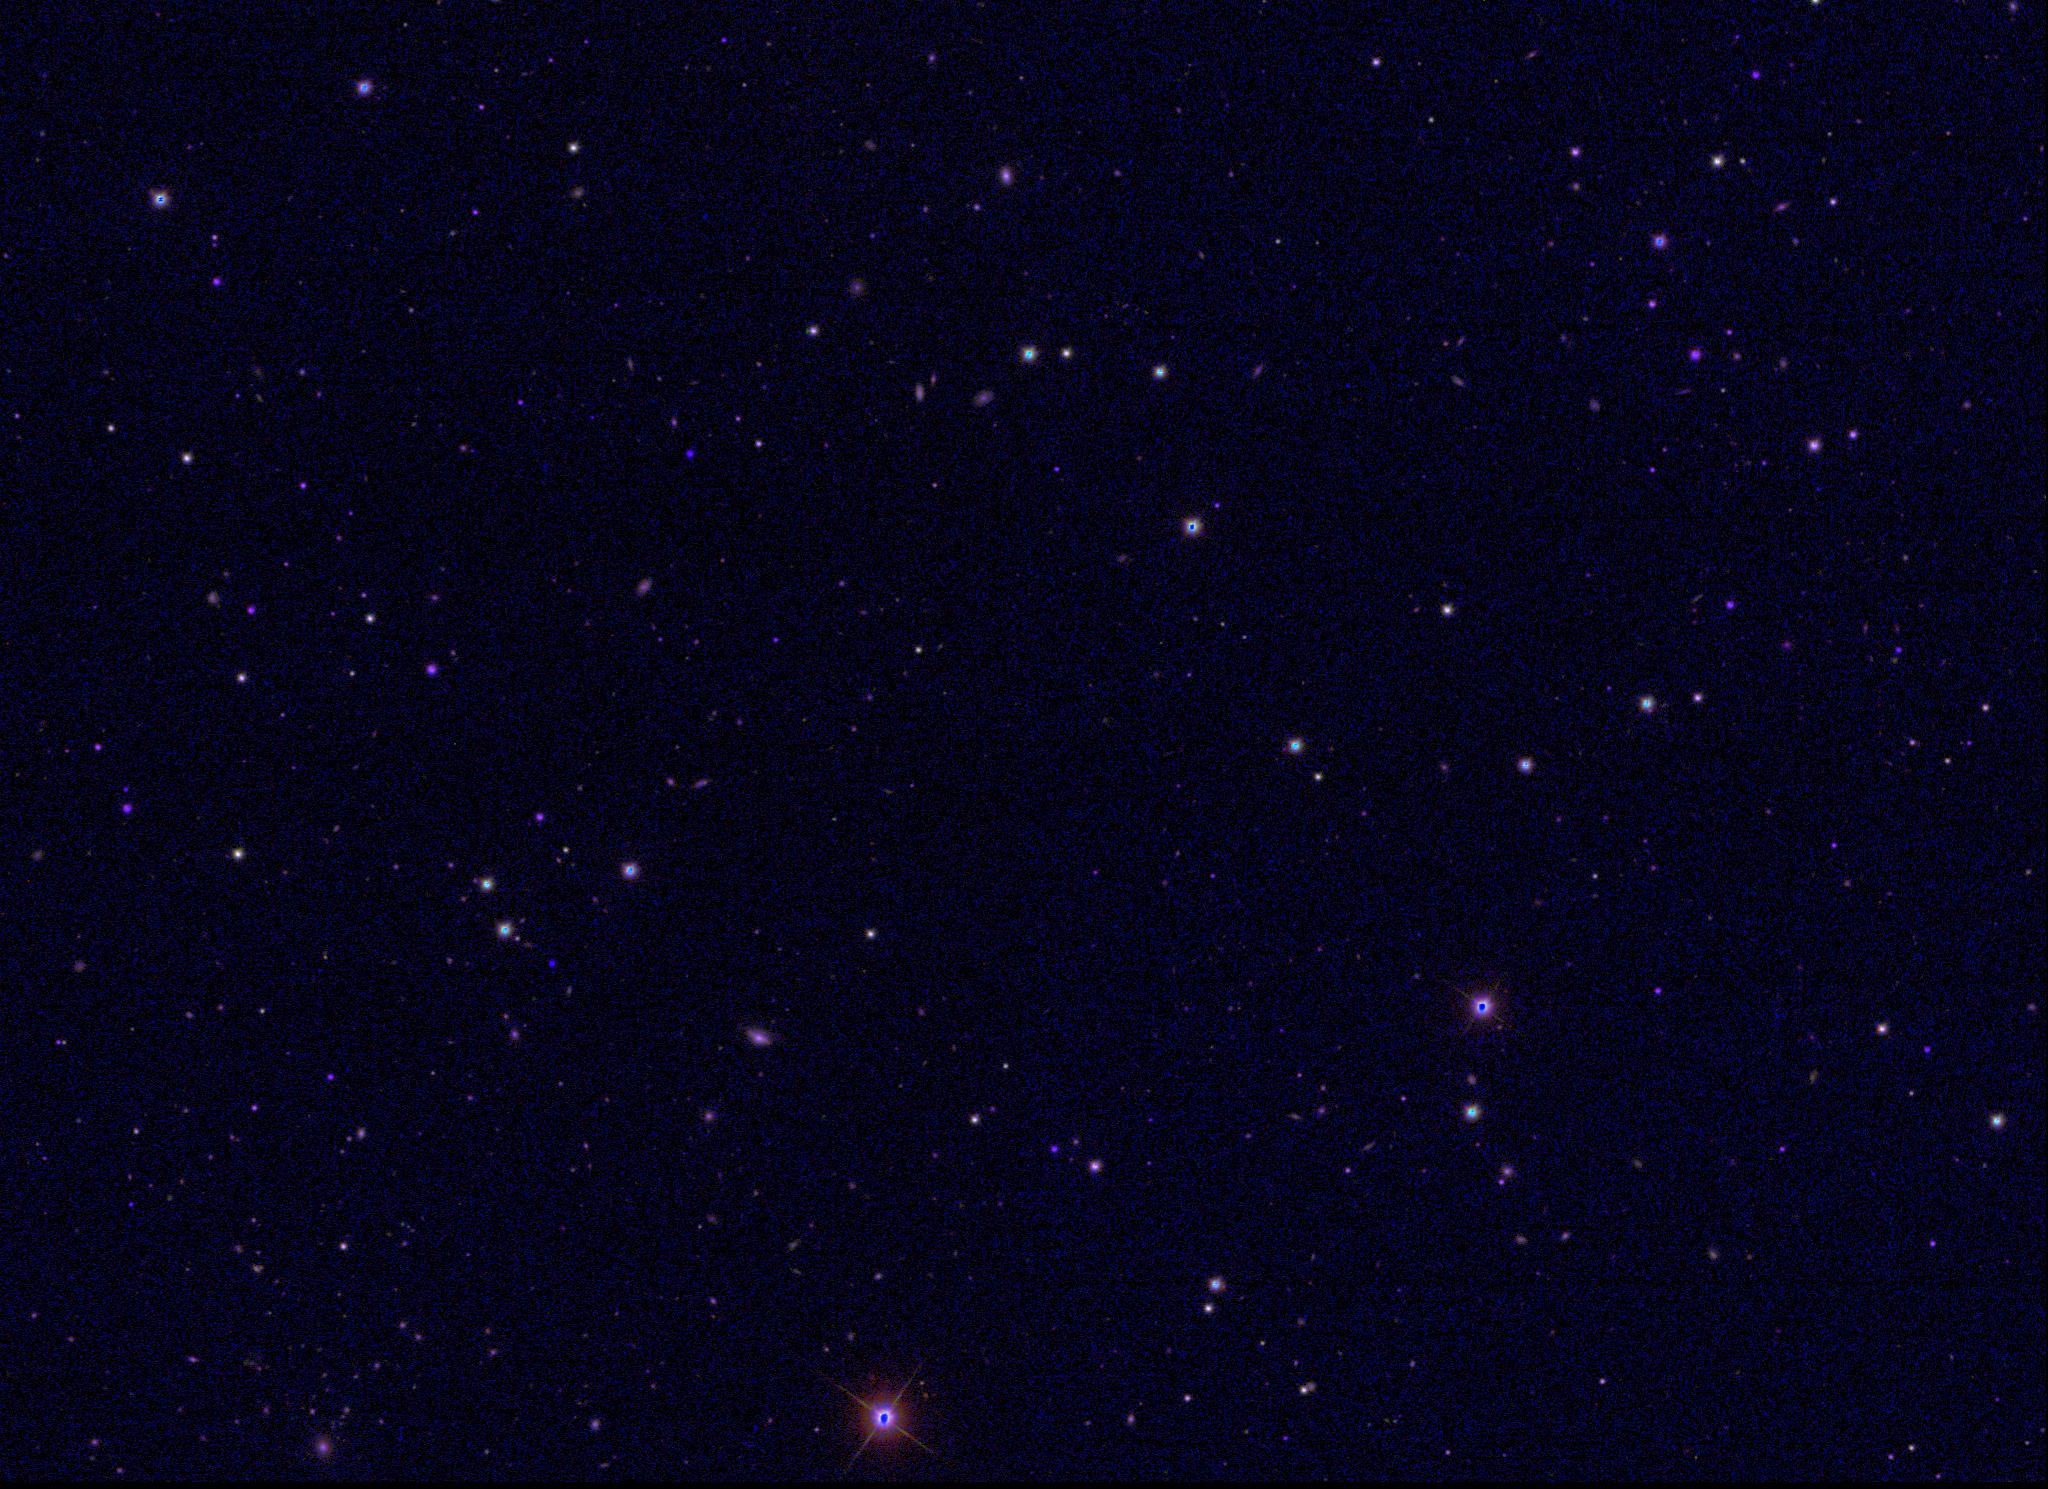L: (544, 954, 558, 969)
